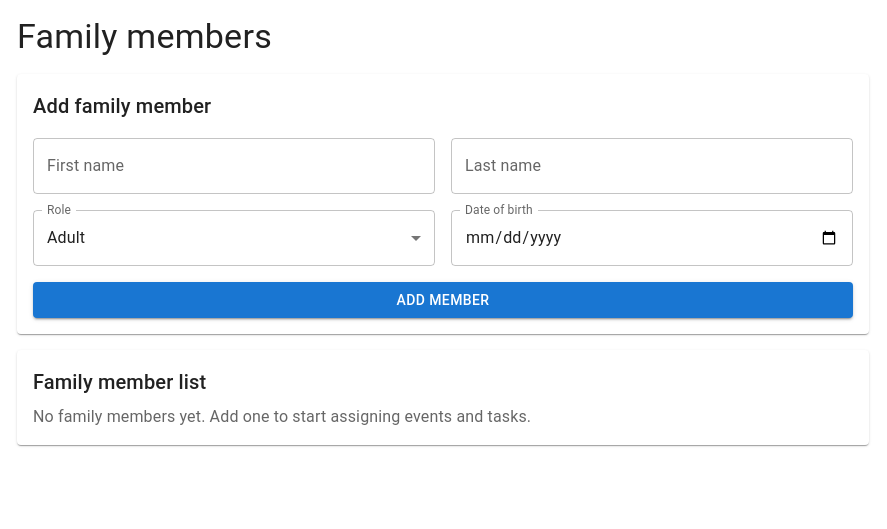
FamilyMembersPage › shows API failure message when create fails
Expected: the heading "Family members" is shown, x1=17 y1=16 x2=272 y2=56
In the field labelled "First name": (234, 166) x1=33 y1=138 x2=435 y2=194, type "Alex"
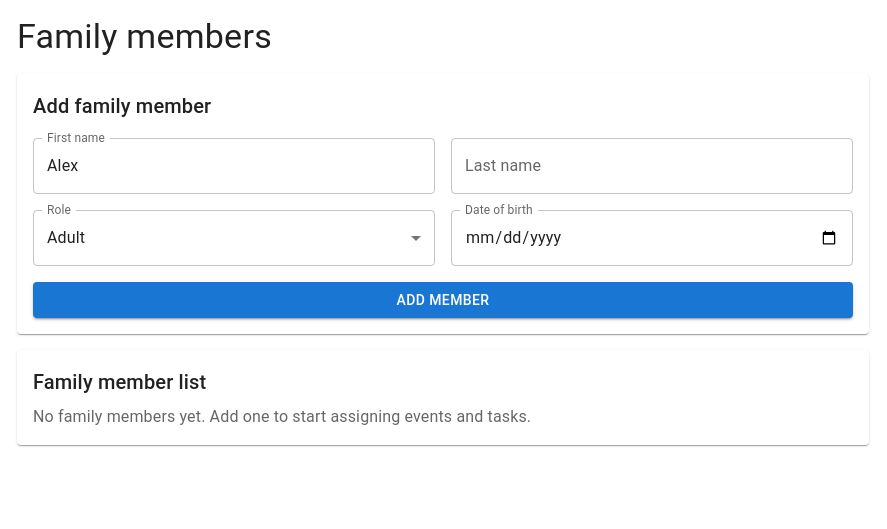
In the field labelled "Last name": (652, 166) x1=451 y1=138 x2=853 y2=194, type "Jordan"
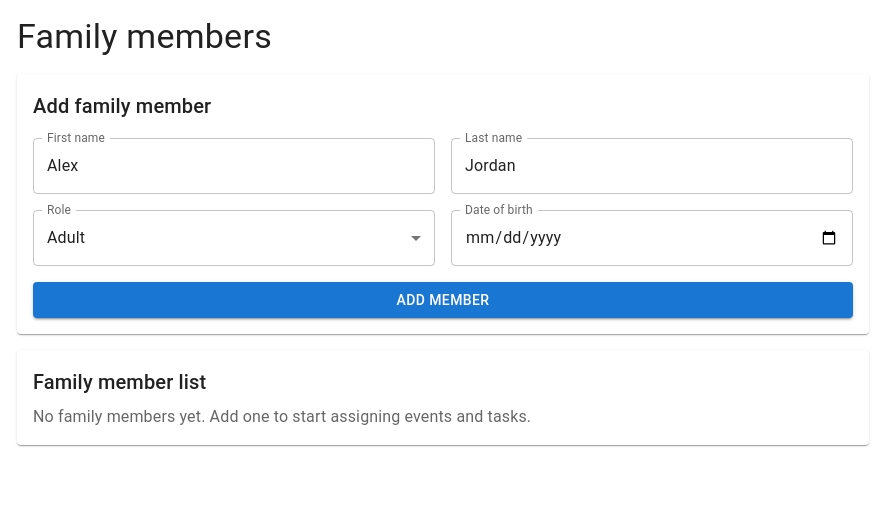
Click the button "Add member": (443, 300) x1=33 y1=282 x2=853 y2=318
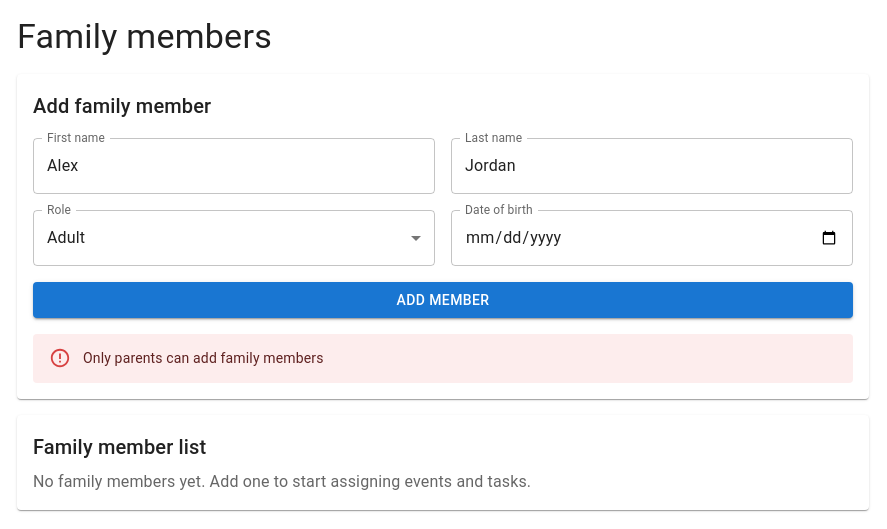
Result: the text "Only parents can add family members" is shown at x1=83 y1=350 x2=324 y2=366
